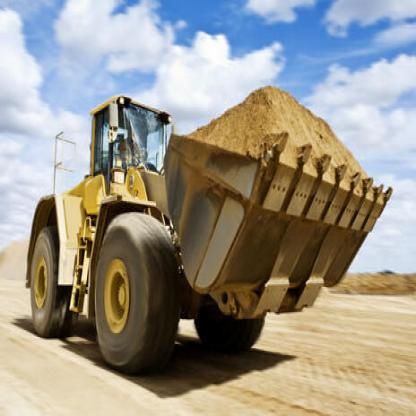bull_dozer/loader/grader: (16, 74, 390, 382)
